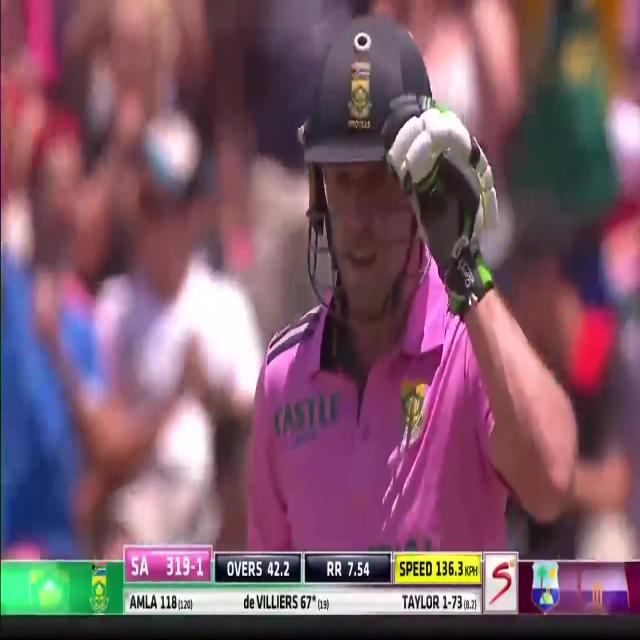Ball: (223, 8, 575, 552)
